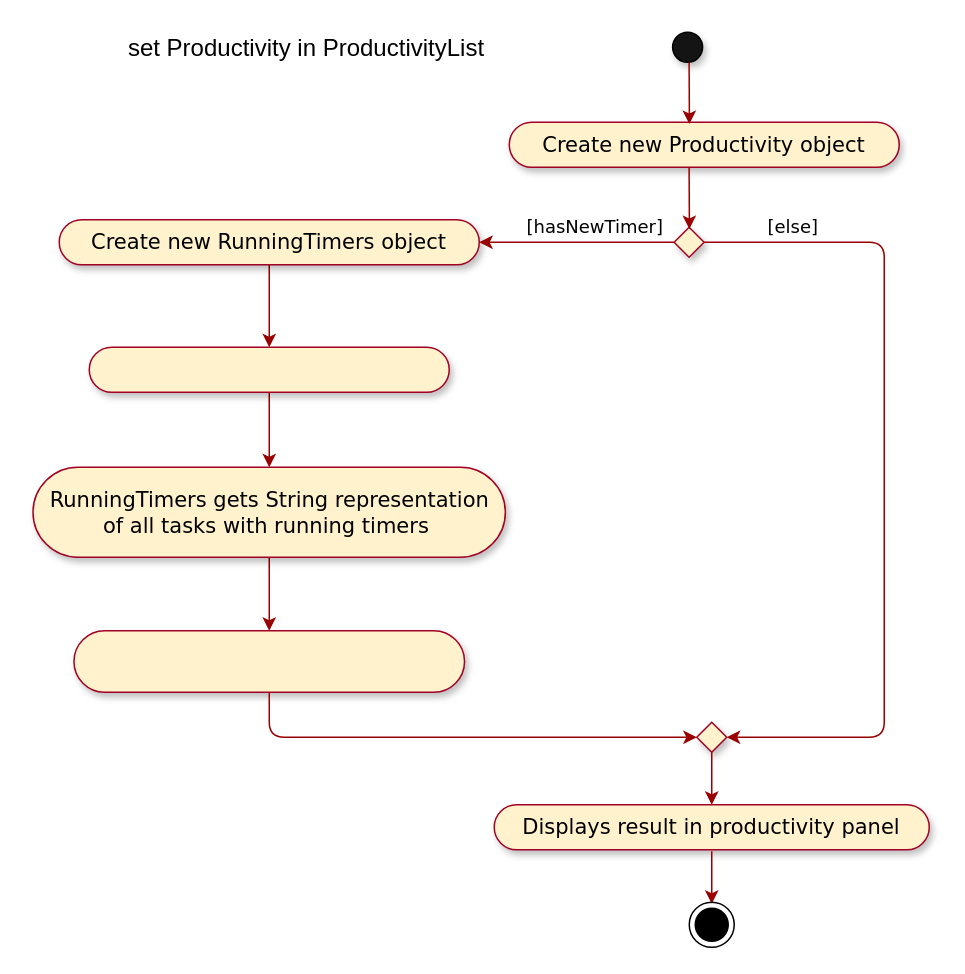
Some shapes in this 965 by 974 pixel diagram are drawn without their labels. Here are the shapes that lost their labels. From the top down, the centre of each, then its label:
point 270,371: Create new ProductivityCard
point 270,663: ProductivityCard updates text on productivity panel
